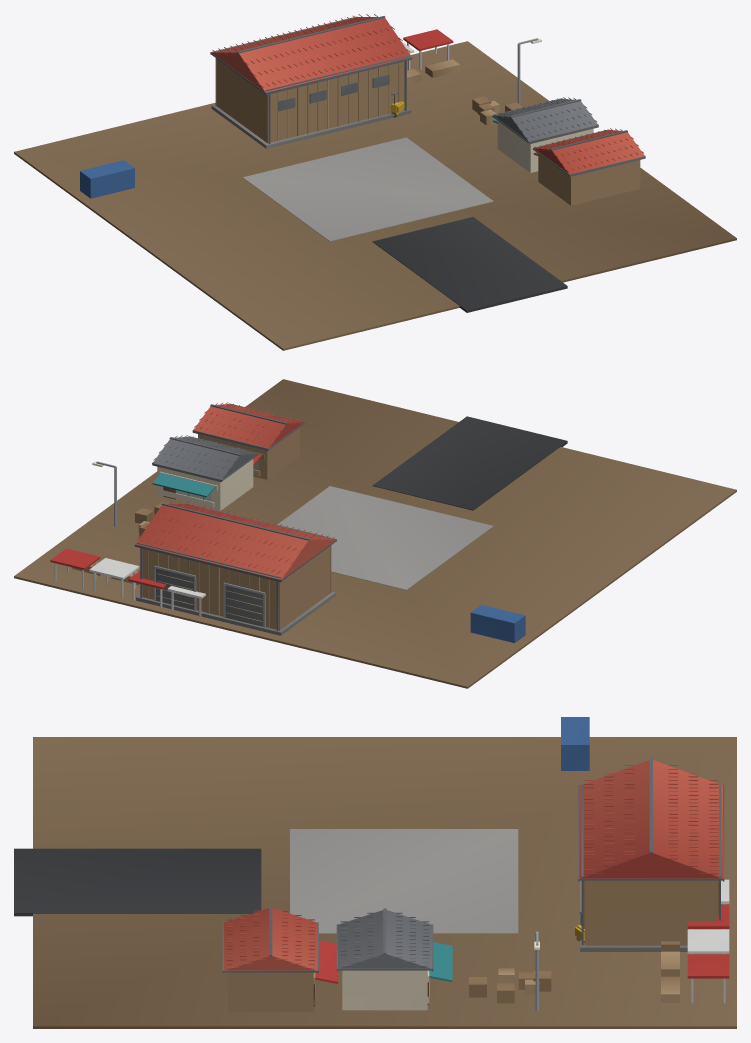
File: Market_P1.fbx
3 views of the same model, one above another, from view 1: azimuth 30°, elevation 25°; view 2: azimuth 150°, elevation 25°; view 3: azimuth 270°, elevation 25° (orthographic). The views are drawn at different scales.
Visible parts, largest first — view 1: Market.Pad, Market.WH1, Market.Shop0, Market.Shop1, Market.Goods, Market.Stalls; view 2: Market.Pad, Market.WH1, Market.Shop1, Market.Shop0, Market.Stalls, Market.Goods; view 3: Market.Pad, Market.WH1, Market.Shop0, Market.Shop1, Market.Stalls, Market.Goods.
Boxes of the visible parts, left/top/right/bottom form: Market.Pad: left=14, top=41, right=736, bottom=350; Market.WH1: left=210, top=14, right=412, bottom=148; Market.Shop0: left=533, top=128, right=645, bottom=205; Market.Shop1: left=492, top=97, right=598, bottom=172; Market.Goods: left=80, top=96, right=522, bottom=198; Market.Stalls: left=401, top=29, right=460, bottom=84; Market.Pad: left=14, top=379, right=736, bottom=688; Market.WH1: left=134, top=501, right=336, bottom=635; Market.Shop1: left=152, top=435, right=258, bottom=510; Market.Shop0: left=192, top=402, right=305, bottom=479; Market.Stalls: left=50, top=548, right=205, bottom=617; Market.Goods: left=135, top=502, right=525, bottom=642; Market.Pad: left=14, top=737, right=736, bottom=1028; Market.WH1: left=578, top=758, right=724, bottom=951; Market.Shop0: left=222, top=906, right=338, bottom=1012; Market.Shop1: left=336, top=908, right=452, bottom=1010; Market.Stalls: left=661, top=879, right=729, bottom=1003; Market.Goods: left=469, top=717, right=589, bottom=1003.
Bounding box in the file's own units: 7200 × 1199 × 7600.
